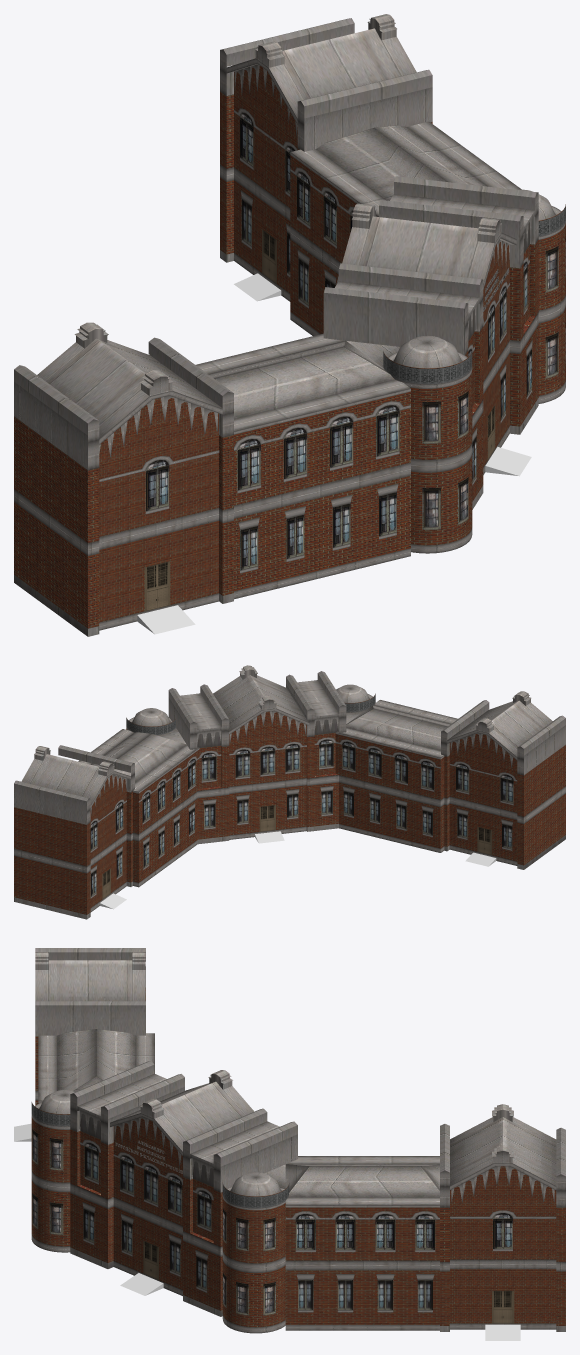
File: bsu old.glb
3 views of the same model, one above another, from view 1: azimuth 30°, elevation 25°; view 2: azimuth 150°, elevation 25°; view 3: azimuth 270°, elevation 25° (orthographic). The views are drawn at different scales.
Parts seen in each view (by area): view 1: Polygon_2, Polygon_1, Cube_2, Cylinder_2, Polygon_3; view 2: Polygon_2, Polygon_1, Polygon_3, Cube_2, Cylinder_2; view 3: Polygon_2, Polygon_1, Cube_2, Polygon_3, Cylinder_2.
Part boxes in pixels (left/top/right/bottom): Polygon_2: left=14, top=14, right=432, bottom=636; Polygon_1: left=196, top=121, right=521, bottom=599; Cube_2: left=323, top=176, right=538, bottom=509; Cylinder_2: left=383, top=189, right=565, bottom=553; Polygon_3: left=336, top=203, right=531, bottom=475; Polygon_2: left=14, top=691, right=565, bottom=919; Polygon_1: left=78, top=700, right=457, bottom=887; Polygon_3: left=197, top=665, right=338, bottom=843; Cube_2: left=168, top=671, right=346, bottom=844; Cylinder_2: left=126, top=684, right=375, bottom=735; Polygon_2: left=14, top=948, right=565, bottom=1340; Polygon_1: left=38, top=1029, right=439, bottom=1330; Cube_2: left=70, top=1061, right=297, bottom=1316; Polygon_3: left=79, top=1070, right=253, bottom=1295; Cylinder_2: left=31, top=1090, right=289, bottom=1333.
Size of the model in its own units: 415 by 150 by 415.
Materials: 6 (5 with a texture image).
